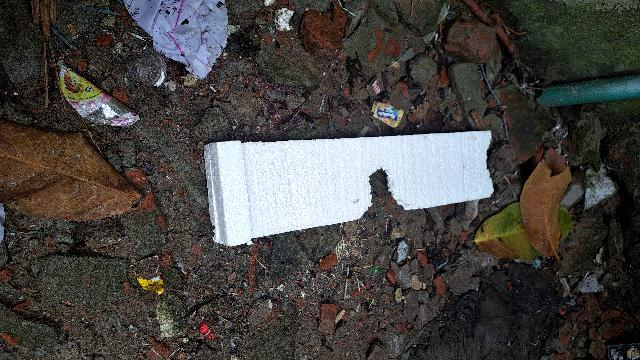cocksheet: (182, 109, 523, 269)
